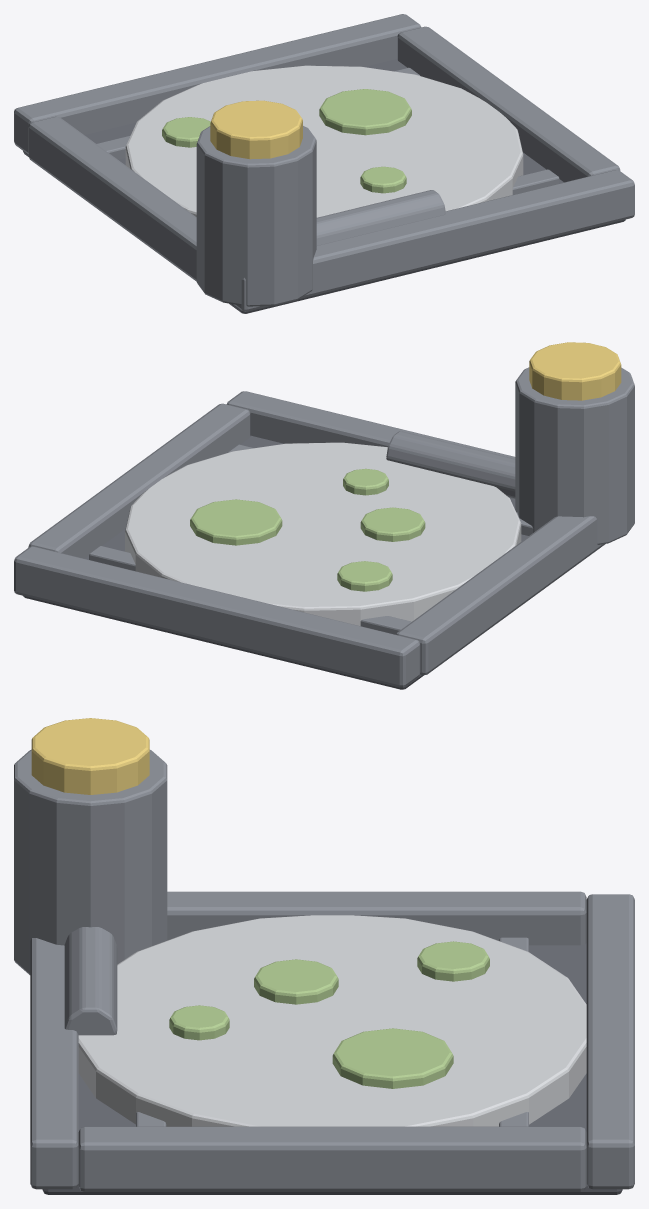
Rendered from trap_tar.glb.
The picture shows the model from 3 angles, top to bottom: view 1: azimuth 30°, elevation 25°; view 2: azimuth 150°, elevation 25°; view 3: azimuth 270°, elevation 25°; orthographic projection. The views are drawn at different scales.
Visible parts, largest first — view 1: Goo, Tank, Rim0_-46, Rim0_46, Rim-46_0, Rim46_0, TankCap, Pipe, Bubble17, Basin, Bubble-20, Bubble0 (+2 smaller); view 2: Goo, Rim0_46, Tank, Rim-46_0, Rim46_0, Rim0_-46, TankCap, Pipe, Bubble17, Bubble-14, Basin, Bubble-20 (+2 smaller); view 3: Goo, Rim46_0, Tank, Rim-46_0, Rim0_46, Rim0_-46, TankCap, Basin, Bubble17, Pipe, Bubble-14, Bubble-20 (+1 smaller).
Boxes of the visible parts, <box> form: Goo: <box>125,65,523,217</box>; Tank: <box>196,126,316,306</box>; Rim0_-46: <box>233,170,634,311</box>; Rim0_46: <box>14,14,421,154</box>; Rim-46_0: <box>28,116,196,281</box>; Rim46_0: <box>397,26,620,182</box>; TankCap: <box>210,100,302,159</box>; Pipe: <box>316,190,445,245</box>; Bubble17: <box>319,89,411,135</box>; Basin: <box>23,58,625,313</box>; Bubble-20: <box>162,117,210,147</box>; Bubble0: <box>360,166,406,193</box>; Goo: <box>125,442,521,625</box>; Rim0_46: <box>14,546,420,687</box>; Tank: <box>515,367,634,544</box>; Rim-46_0: <box>396,516,605,675</box>; Rim46_0: <box>28,403,250,558</box>; Rim0_-46: <box>226,391,515,458</box>; TankCap: <box>529,342,621,400</box>; Pipe: <box>386,431,515,499</box>; Bubble17: <box>190,499,282,545</box>; Bubble-14: <box>360,507,425,541</box>; Basin: <box>23,435,528,689</box>; Bubble-20: <box>337,561,392,591</box>; Goo: <box>78,915,586,1126</box>; Rim46_0: <box>78,1126,586,1191</box>; Tank: <box>14,749,167,974</box>; Rim-46_0: <box>167,891,586,945</box>; Rim0_46: <box>586,894,634,1189</box>; Rim0_-46: <box>30,938,78,1189</box>; TankCap: <box>31,718,149,794</box>; Basin: <box>42,943,622,1194</box>; Bubble17: <box>332,1028,453,1088</box>; Pipe: <box>64,927,117,1035</box>; Bubble-14: <box>254,959,338,1004</box>; Bubble-20: <box>417,941,489,981</box>.
Bounding box in the file's own units: 1.03 × 0.42 × 1.03.
